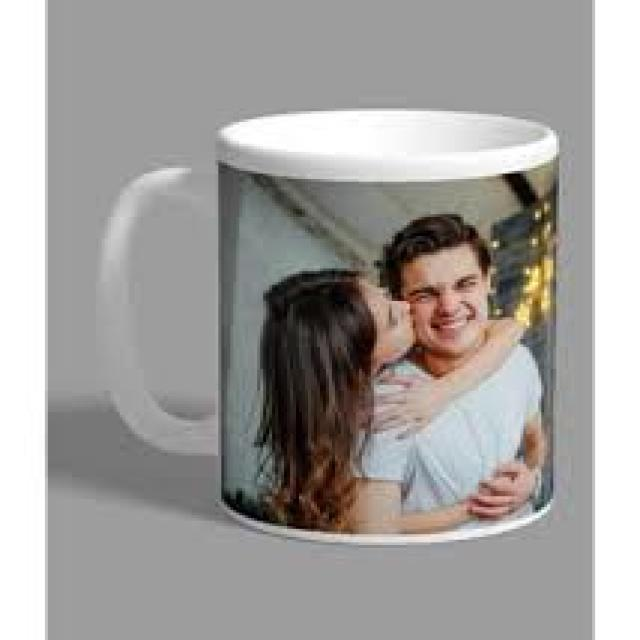taza: (95, 107, 560, 547)
